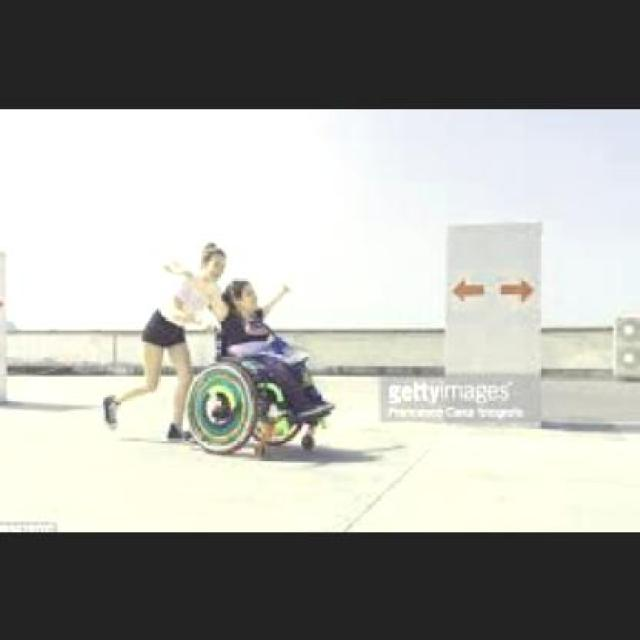wheelchairs: (181, 300, 345, 473)
